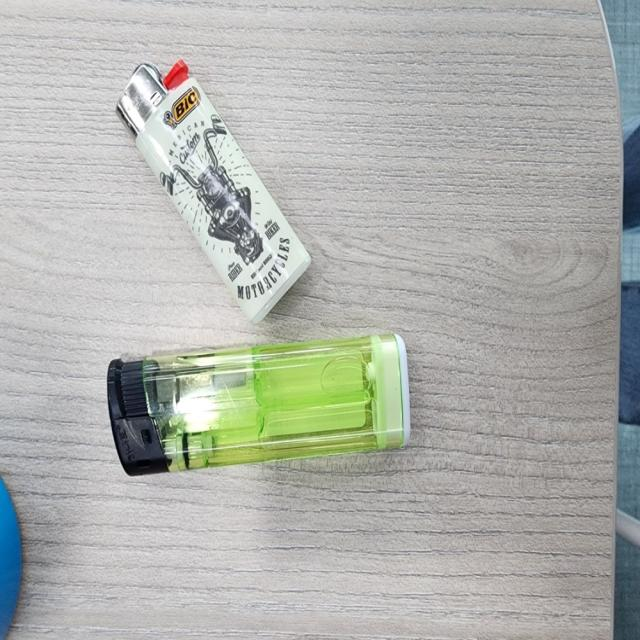lighter: (114, 48, 316, 333), (105, 333, 412, 483)
